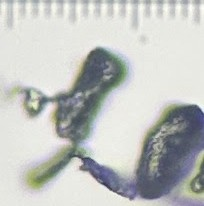microplastic: (1, 46, 204, 205)
